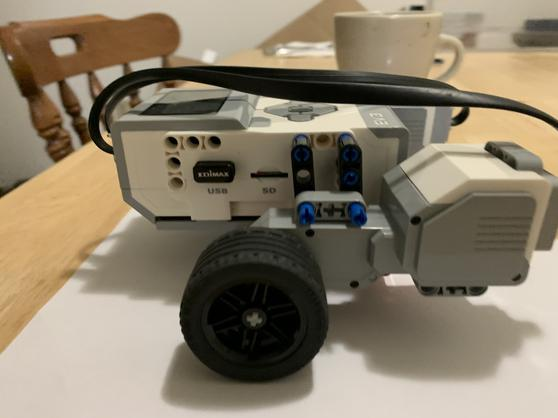robot: (87, 60, 558, 395)
